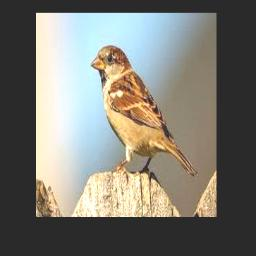Sparrow: (90, 45, 197, 176)
